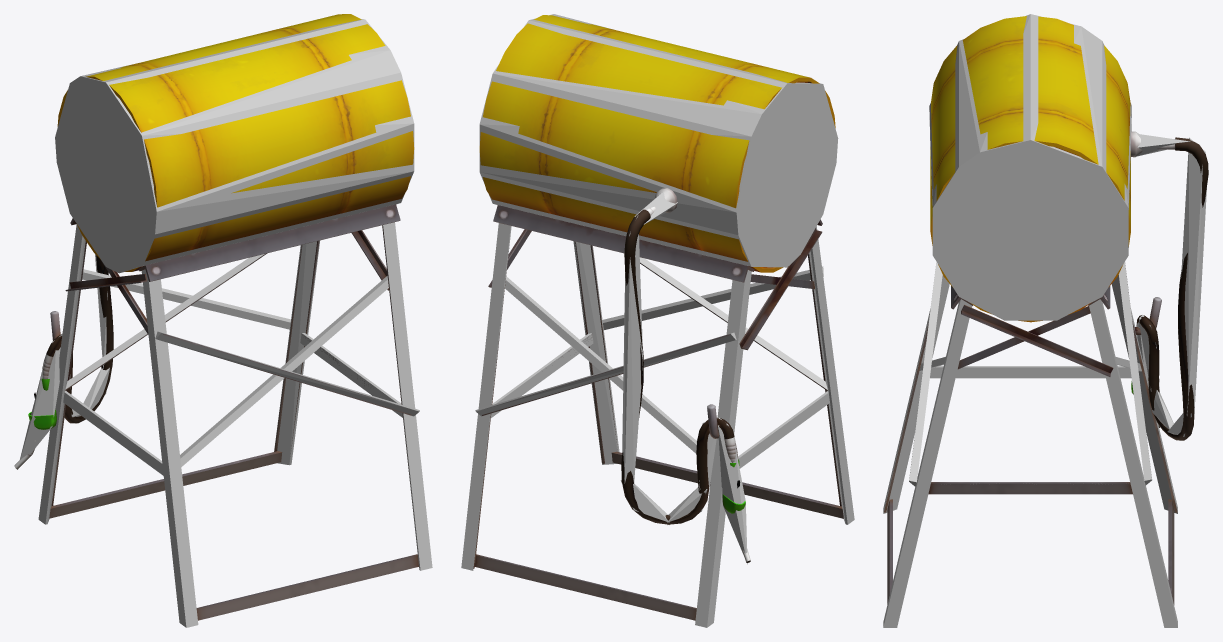
The model's file is SM_FuelTank02.fbx.
3 renders of one model, left to right at view 1: azimuth 30°, elevation 25°; view 2: azimuth 150°, elevation 25°; view 3: azimuth 270°, elevation 25°, orthographic.
Visible parts, largest first — view 1: SM_FuelTank02_ConvexHulls, SM_FuelTank02; view 2: SM_FuelTank02_ConvexHulls, SM_FuelTank02; view 3: SM_FuelTank02_ConvexHulls, SM_FuelTank02.
Part boxes in pixels (x1,y1,x2,y2): SM_FuelTank02_ConvexHulls: (17, 19, 432, 627); SM_FuelTank02: (14, 14, 418, 620); SM_FuelTank02_ConvexHulls: (461, 14, 854, 627); SM_FuelTank02: (473, 15, 843, 620); SM_FuelTank02_ConvexHulls: (883, 14, 1206, 627); SM_FuelTank02: (884, 16, 1208, 604).
Size of the model in its own units: 184 by 181 by 302.
2 materials, 1 textured.
